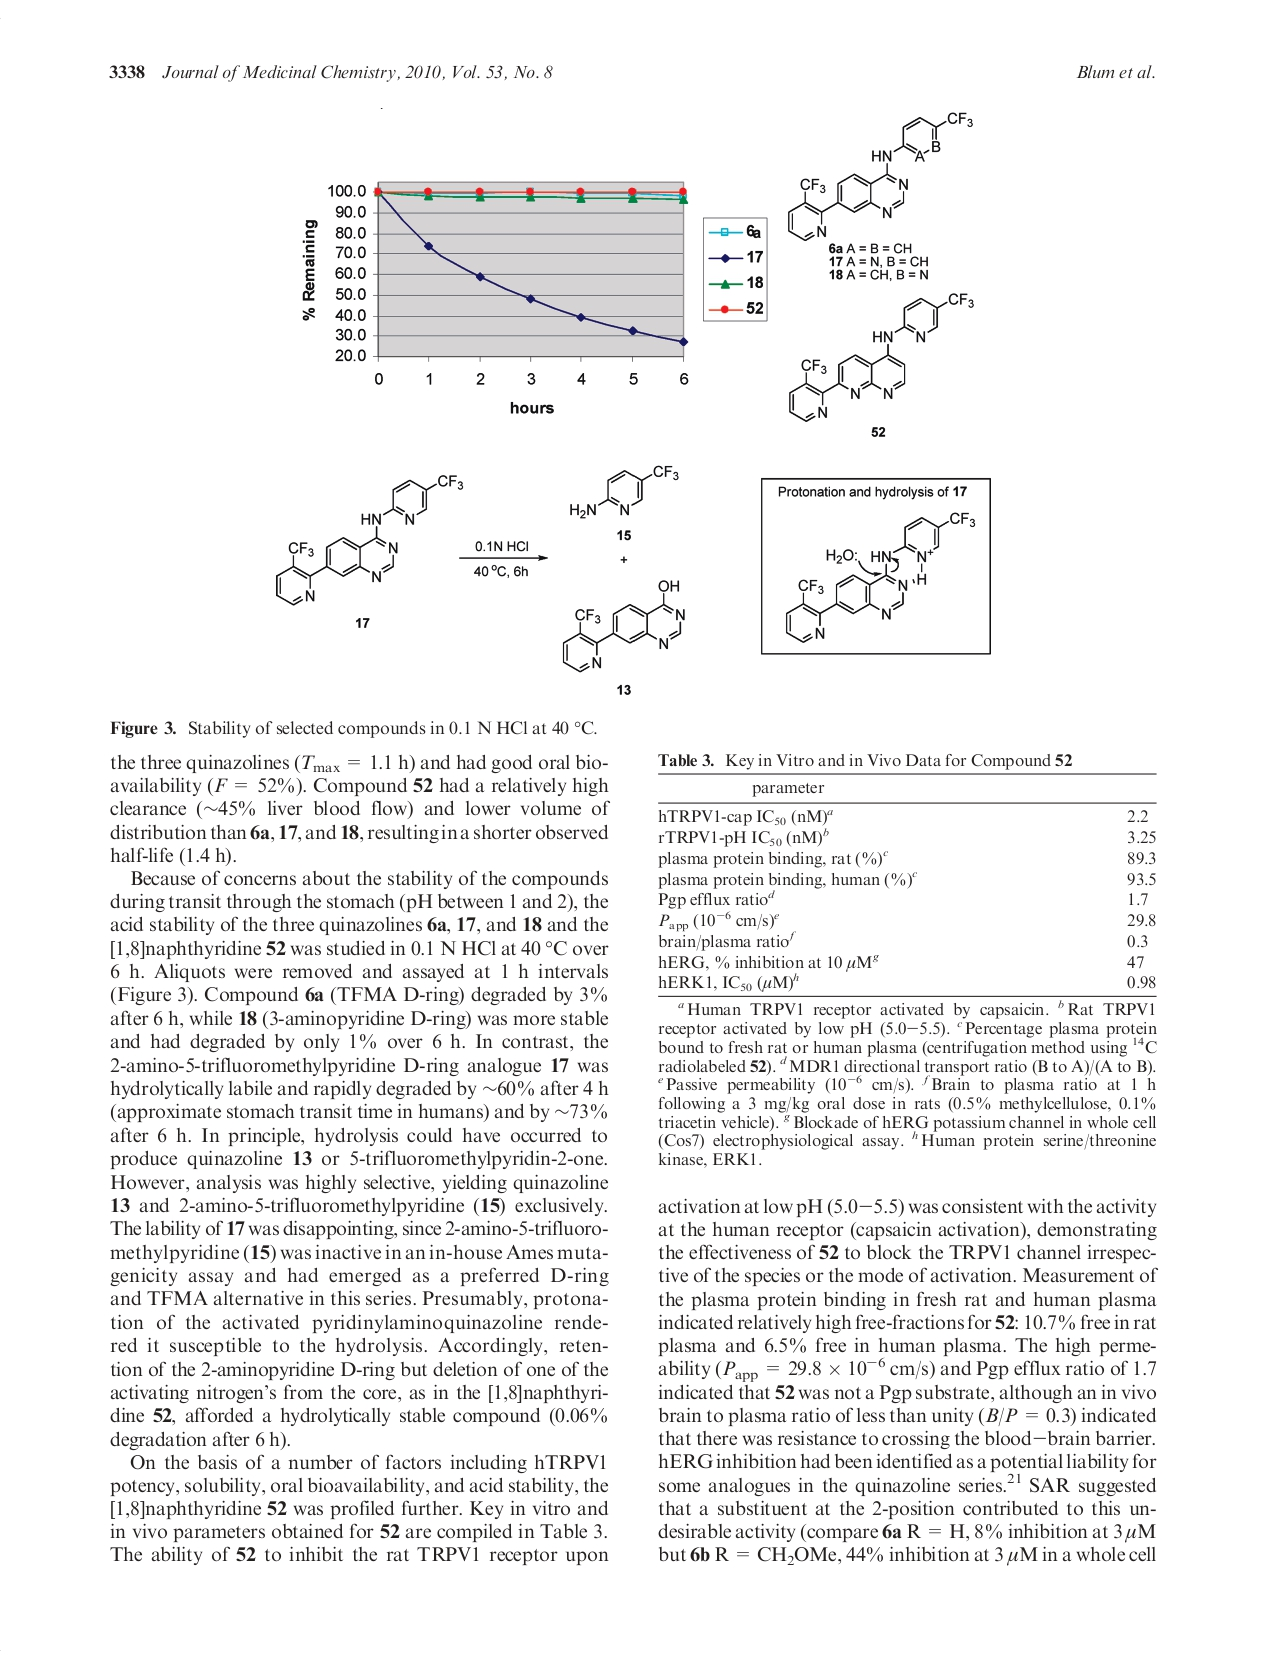exist_molecular: (269, 463, 483, 605), (779, 511, 983, 649), (786, 282, 977, 428), (789, 106, 981, 247), (553, 575, 696, 676), (567, 457, 682, 532)
